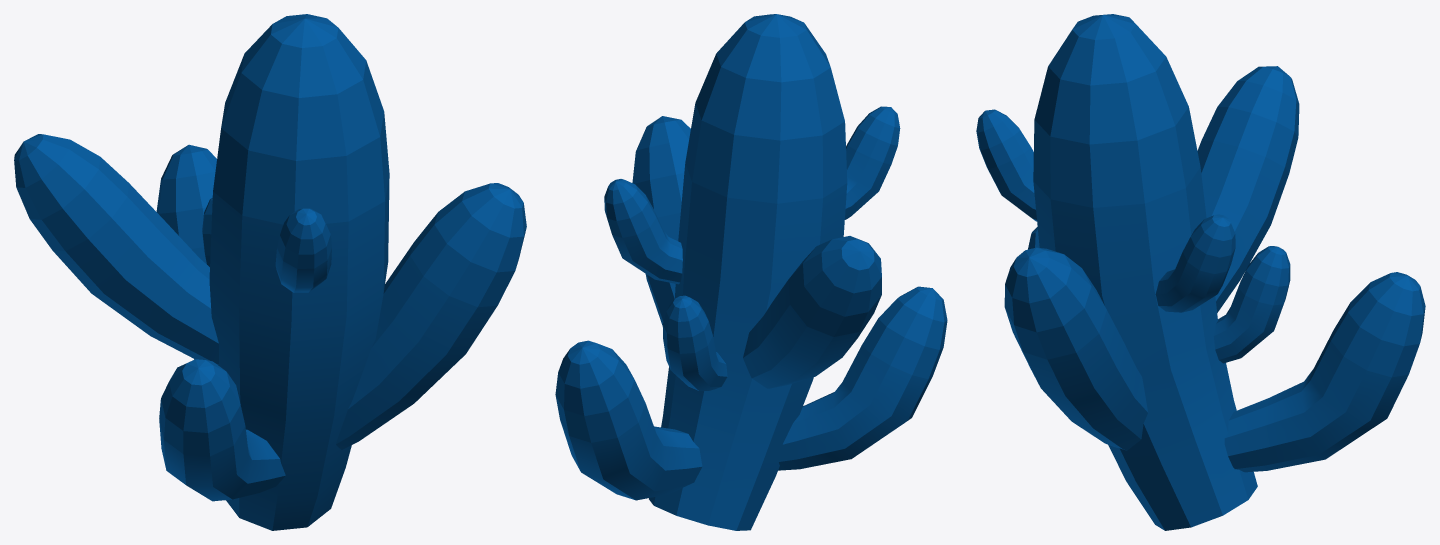
The model's file is Moon_Cactus_1.fbx.
3 renders of one model, left to right at view 1: azimuth 30°, elevation 25°; view 2: azimuth 150°, elevation 25°; view 3: azimuth 270°, elevation 25°, orthographic. The views are drawn at different scales.
Parts seen in each view (by area): view 1: Moon_Cactus_1; view 2: Moon_Cactus_1; view 3: Moon_Cactus_1.
Boxes of the visible parts, x1,y1,x2,y2 form: Moon_Cactus_1: (14,14,526,530); Moon_Cactus_1: (555,14,947,530); Moon_Cactus_1: (976,14,1425,530).
Bounding box in the file's own units: 26.32 × 35.39 × 29.05.
